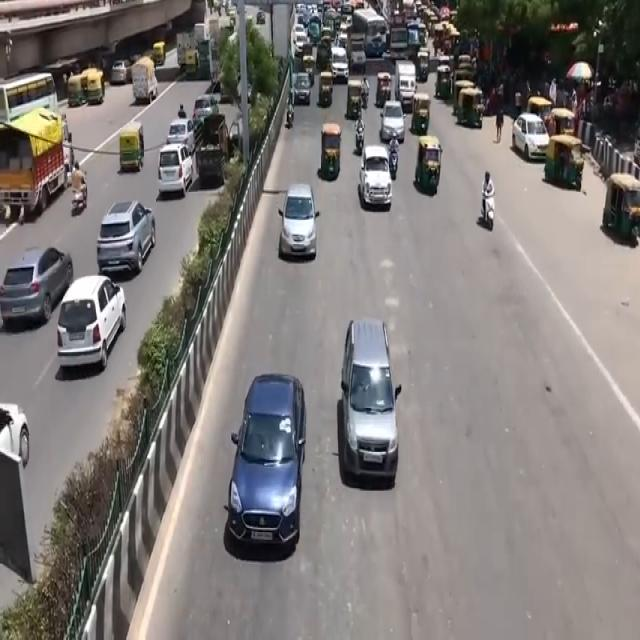BUS: (348, 9, 386, 59)
MOTORCYCLE: (483, 190, 497, 233), (389, 149, 398, 181), (356, 128, 364, 156)
TRUCK: (0, 110, 67, 226), (133, 58, 158, 104)
